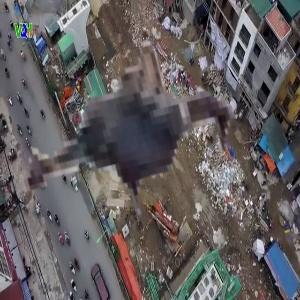drone: (3, 2, 280, 279)
